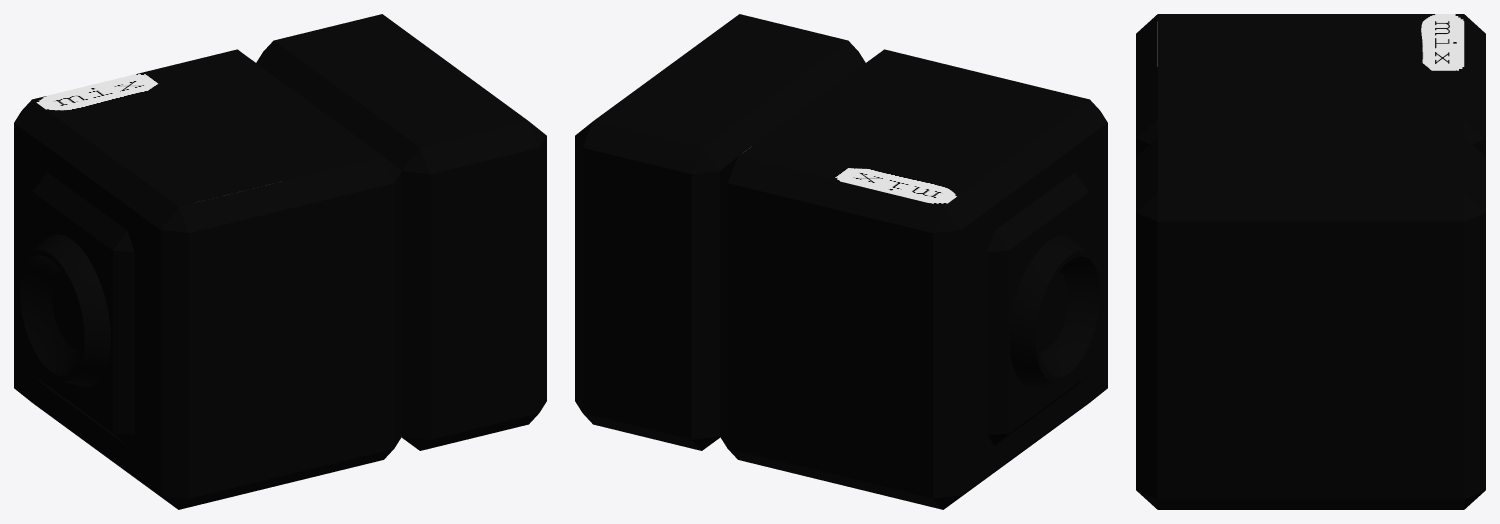
The model's file is goal_node.glb.
The picture shows the model from 3 angles, left to right: view 1: azimuth 30°, elevation 25°; view 2: azimuth 150°, elevation 25°; view 3: azimuth 270°, elevation 25°; orthographic projection. The views are drawn at different scales.
Parts seen in each view (by area): view 1: GoalNode; view 2: GoalNode; view 3: GoalNode.
Part boxes in pixels (left/top/right/bottom): GoalNode: left=14, top=14, right=546, bottom=509; GoalNode: left=575, top=14, right=1107, bottom=509; GoalNode: left=1136, top=14, right=1485, bottom=509.
Size of the model in its own units: 0.8736 by 0.6 by 0.6.
Materials: 1 (1 with a texture image).
